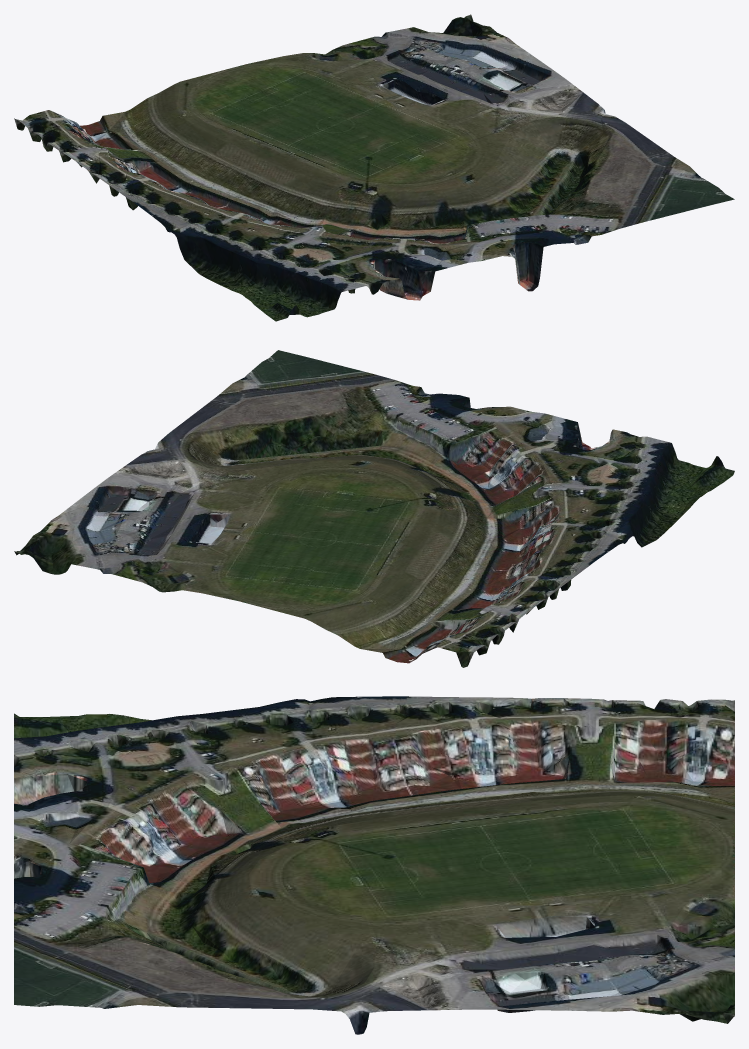
File: map_13_2045_3448.dae
3 views of the same model, one above another, from view 1: azimuth 30°, elevation 25°; view 2: azimuth 150°, elevation 25°; view 3: azimuth 270°, elevation 25° (orthographic). The views are drawn at different scales.
Visible parts, largest first — view 1: Ter0; view 2: Ter0; view 3: Ter0.
Part boxes in pixels (x1,y1,x2,y2): Ter0: (14, 14, 734, 321); Ter0: (14, 350, 734, 667); Ter0: (14, 696, 734, 1034).
Size of the model in its own units: 256 by 256 by 24.63.
Materials: 2 (2 with a texture image).
